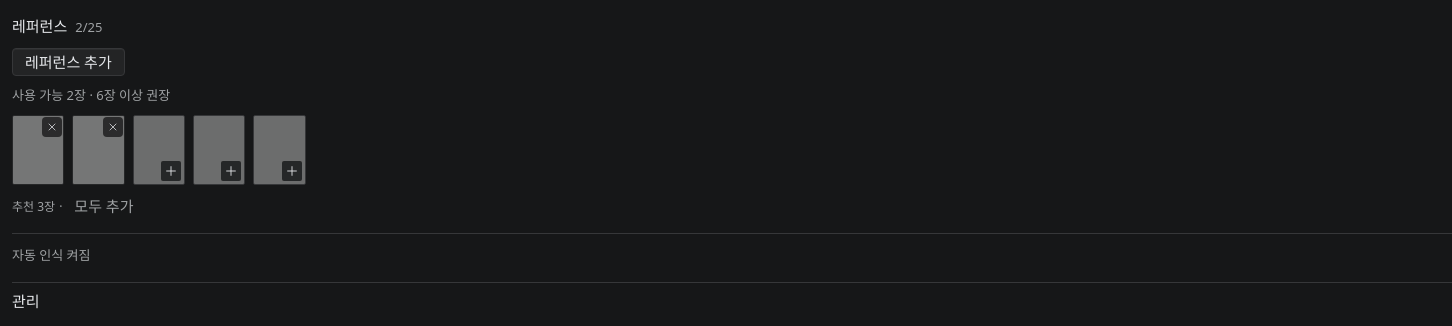
adds every suggestion from the line, keeps the person choice for ones without a region, and never repeats a reference
The width and height of the screenshot is (1452, 326).
Expected: the text "추천 3장" is shown, [12,197,55,217]
Click the button "모두 추가" at (104, 207), box [66,193,141,221]
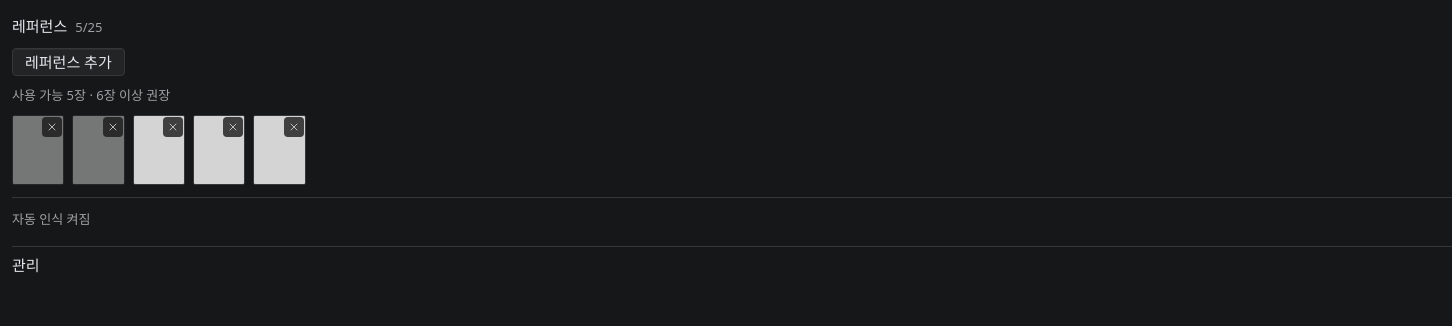
Now the text "추천 3장" is gone
